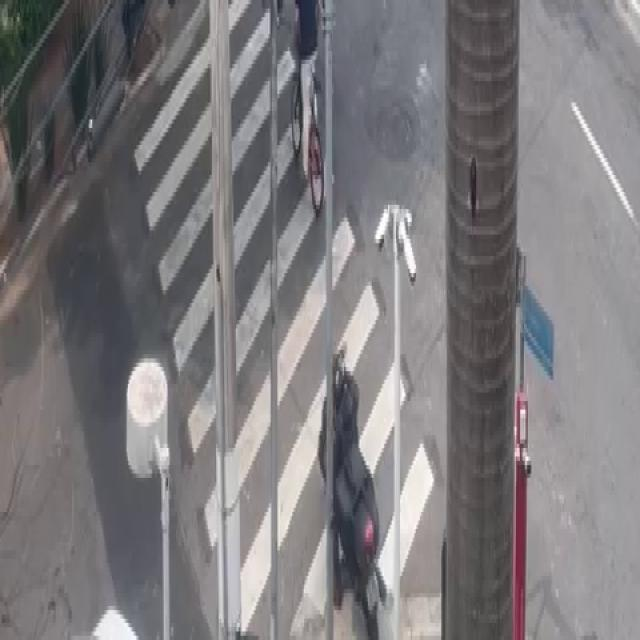bicycle: (292, 0, 325, 224)
motorbike: (322, 358, 386, 640)
